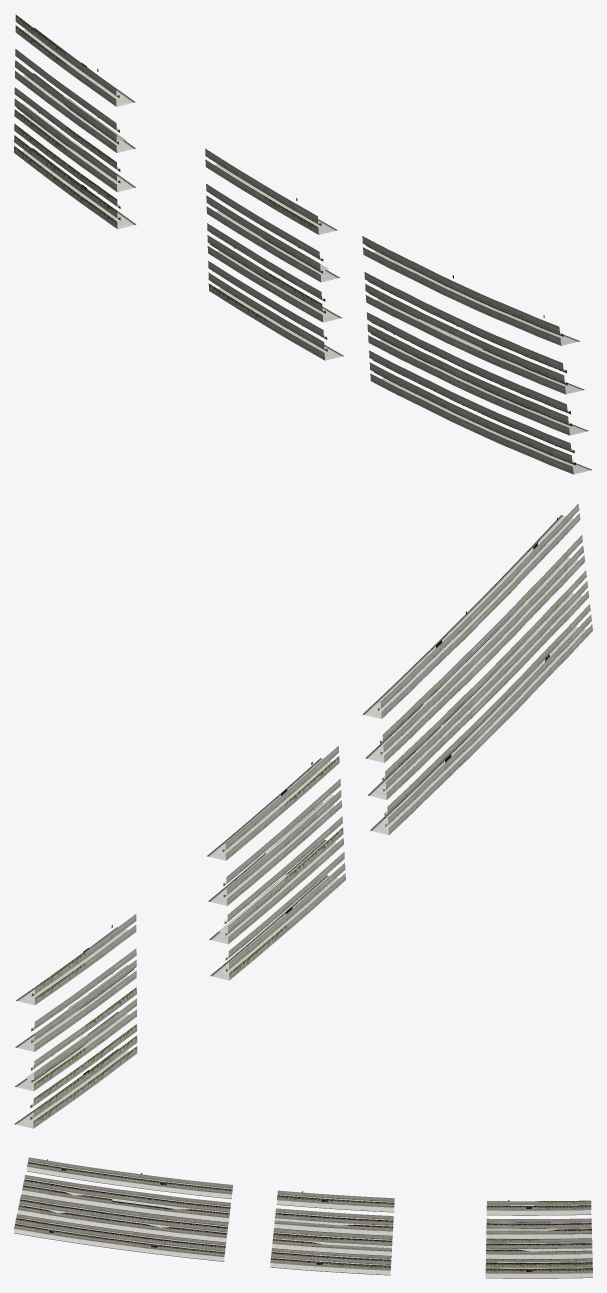
File: STA20_03.FBX
The picture shows the model from 3 angles, top to bottom: view 1: azimuth 30°, elevation 25°; view 2: azimuth 150°, elevation 25°; view 3: azimuth 270°, elevation 25°; orthographic projection. The views are drawn at different scales.
Parts seen in each view (by area): view 1: STA20_03; view 2: STA20_03; view 3: STA20_03.
Part boxes in pixels (box(x1,y1,x2,y2)): STA20_03: box(14, 14, 592, 474); STA20_03: box(14, 503, 592, 1128); STA20_03: box(14, 1157, 592, 1278).
Size of the model in its own units: 15.32 by 158 by 709.
